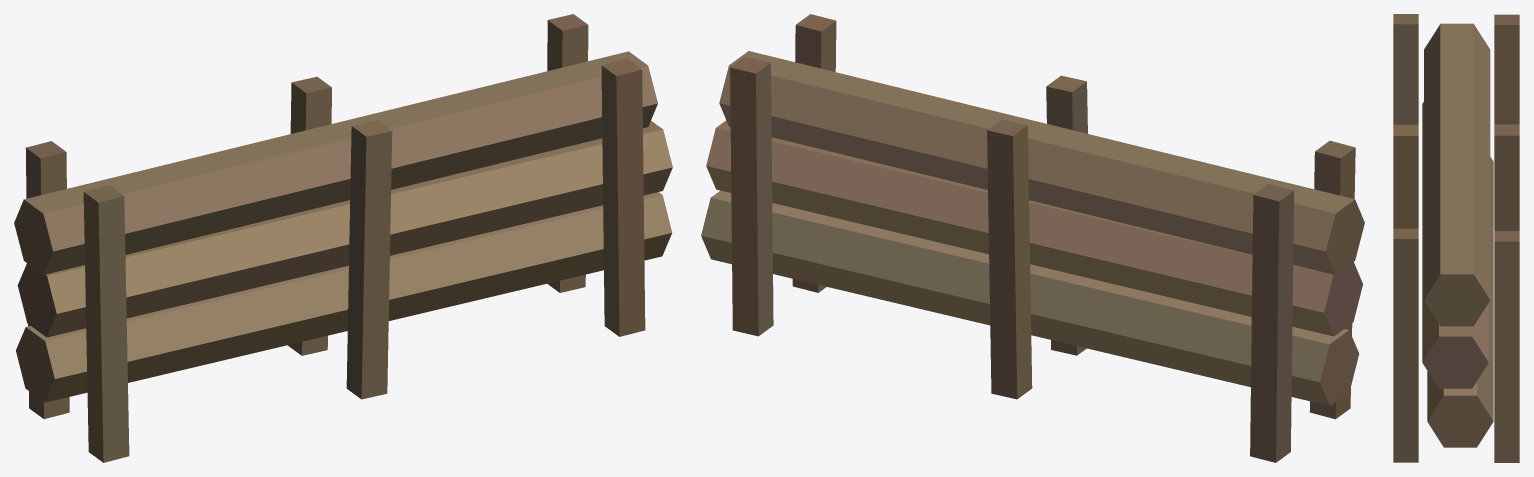
The model's file is Piece_Barricade.glb.
3 views of the same model, side by side, from view 1: azimuth 30°, elevation 25°; view 2: azimuth 150°, elevation 25°; view 3: azimuth 270°, elevation 25° (orthographic). The views are drawn at different scales.
Parts seen in each view (by area): view 1: Piece_Barricade; view 2: Piece_Barricade; view 3: Piece_Barricade.
Part boxes in pixels (left/top/right/bottom): Piece_Barricade: left=14, top=14, right=672, bottom=462; Piece_Barricade: left=701, top=14, right=1364, bottom=462; Piece_Barricade: left=1393, top=14, right=1519, bottom=462.
Size of the model in its own units: 3.85 by 1.55 by 0.8.
